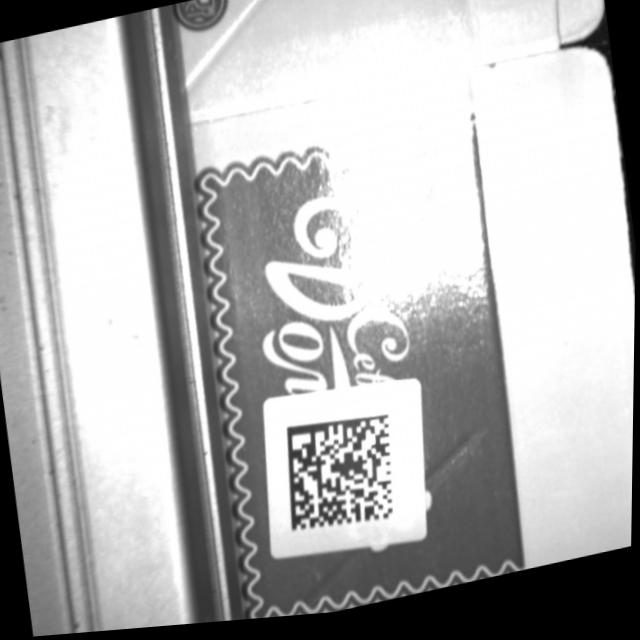datamatrix: (278, 410, 406, 548)
